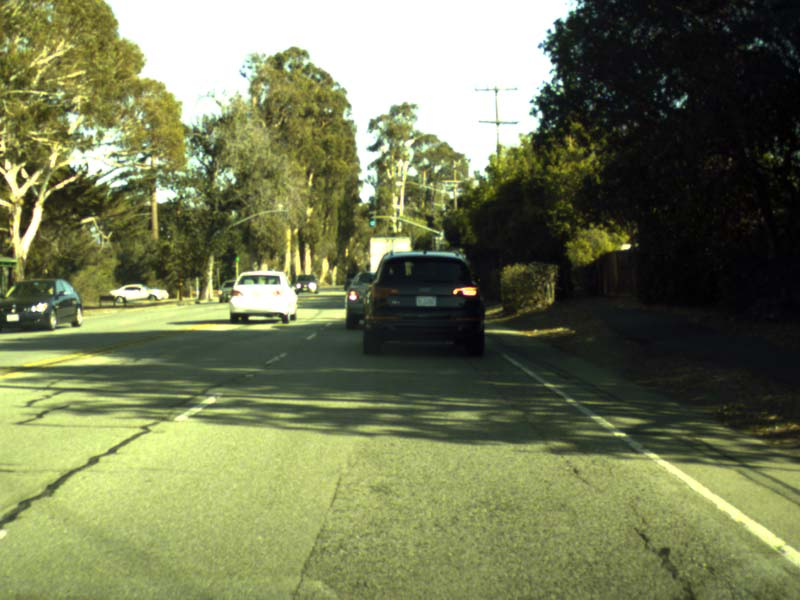Green: (369, 213, 375, 227)
